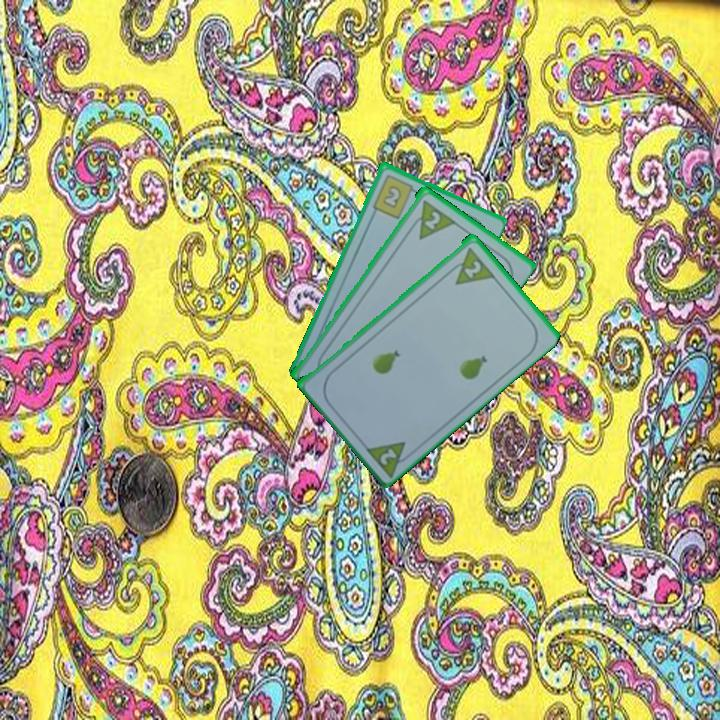2b: (369, 171, 421, 221)
2p: (405, 195, 457, 242), (443, 243, 497, 287), (376, 444, 400, 468)
